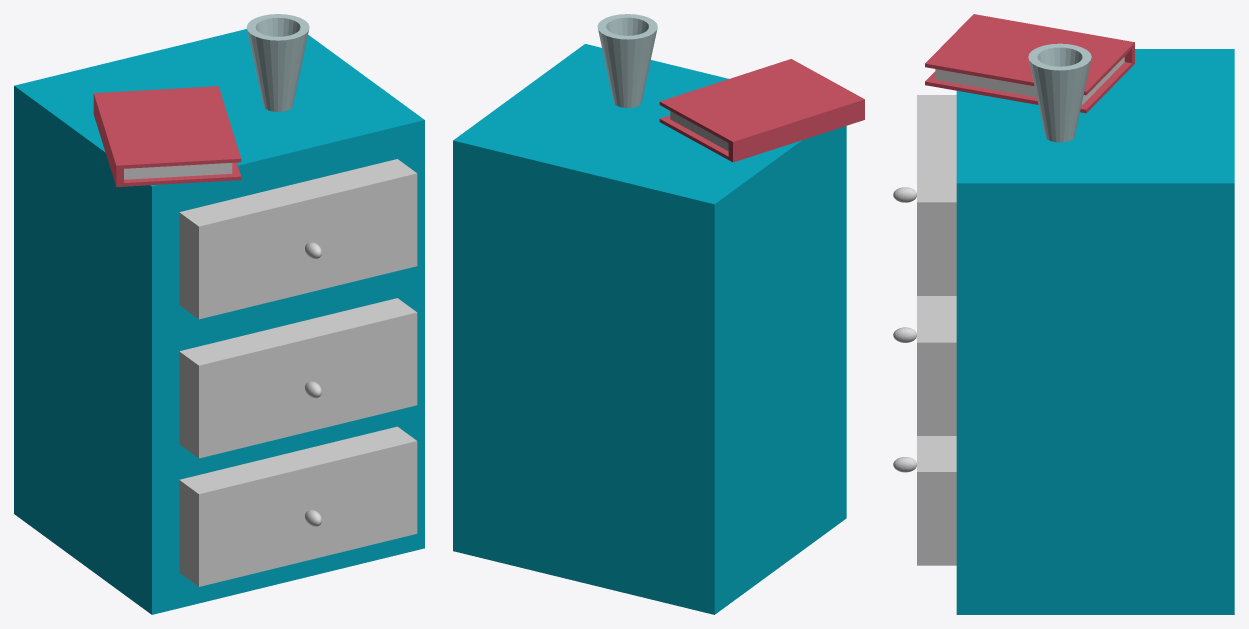
The model's file is Mighty Tumelo (1).glb.
3 views of the same model, side by side, from view 1: azimuth 30°, elevation 25°; view 2: azimuth 150°, elevation 25°; view 3: azimuth 270°, elevation 25° (orthographic). The views are drawn at different scales.
Parts seen in each view (by area): view 1: Mesh_Mesh_head_geo.001_lambert2SG.001; view 2: Mesh_Mesh_head_geo.001_lambert2SG.001; view 3: Mesh_Mesh_head_geo.001_lambert2SG.001.
Part boxes in pixels (x1,y1,x2,y2): Mesh_Mesh_head_geo.001_lambert2SG.001: (14, 14, 424, 614); Mesh_Mesh_head_geo.001_lambert2SG.001: (453, 14, 864, 614); Mesh_Mesh_head_geo.001_lambert2SG.001: (893, 14, 1234, 614).
Size of the model in its own units: 44 by 71 by 43.
